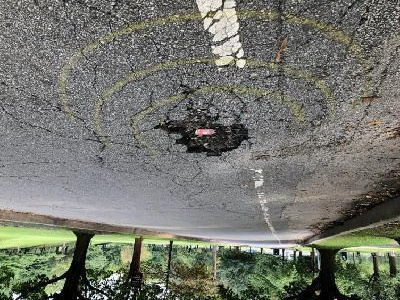pothole: (154, 113, 254, 158)
